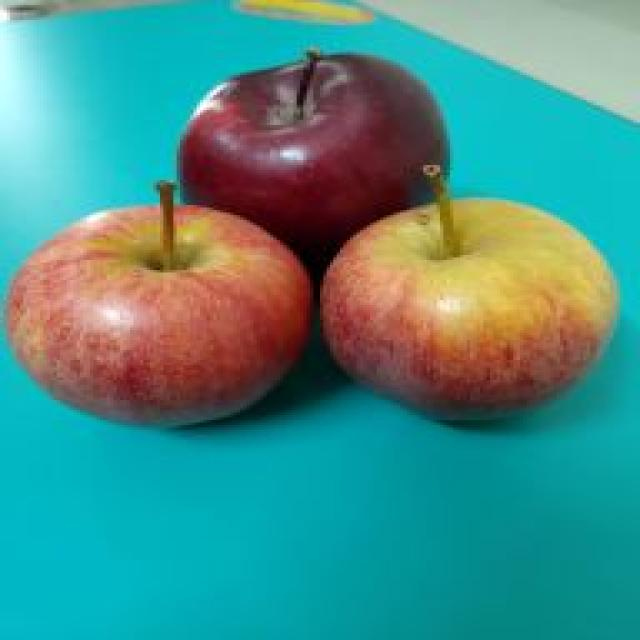Good_Apple: (7, 182, 317, 432), (320, 198, 620, 428), (177, 50, 453, 280)
